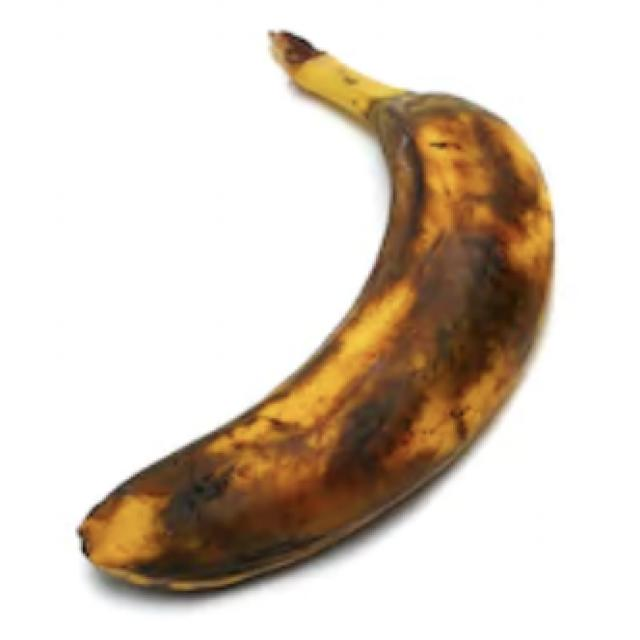rotten-banana: (72, 24, 556, 598)
